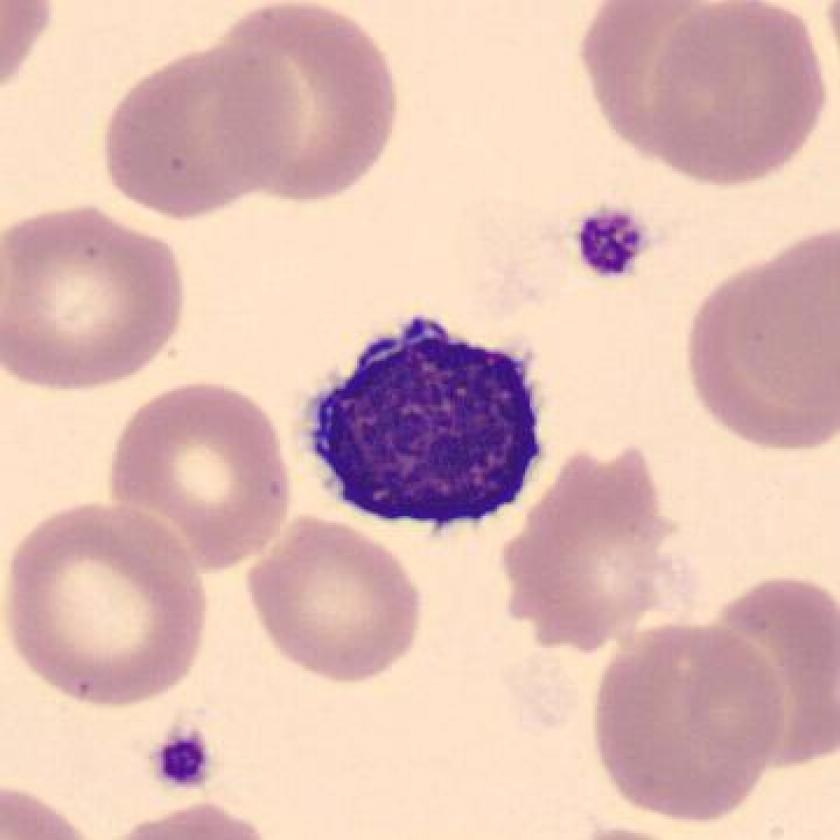lymphocyte: (293, 297, 563, 545)
